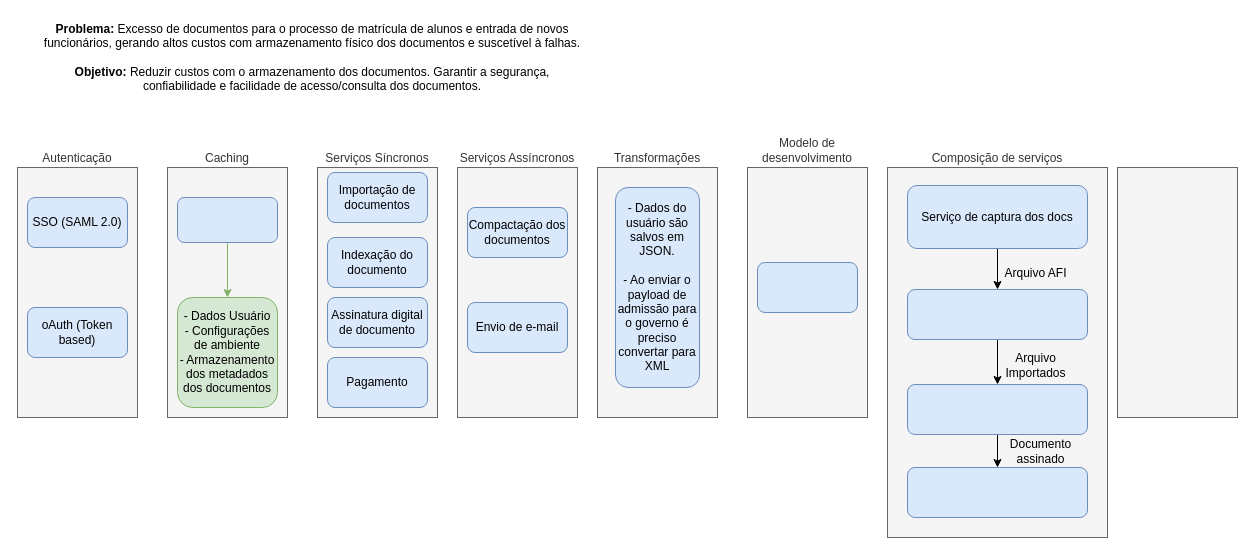
This 1255x555 diagram has some shape labels left out. The shapes that lost their labels are listed below. From the top down, each one's centre as x and y in pixels, then its label:
point 227,219: Redis
point 807,287: Git Flow
point 1177,292: Orquestração de serviços
point 997,314: File Watch faz a leitra da AFI e importa os arquivos
point 997,409: Serviço de Assinatura de documentos recebe o arquivo e o assina
point 997,492: Serviço de envio de e-mail
